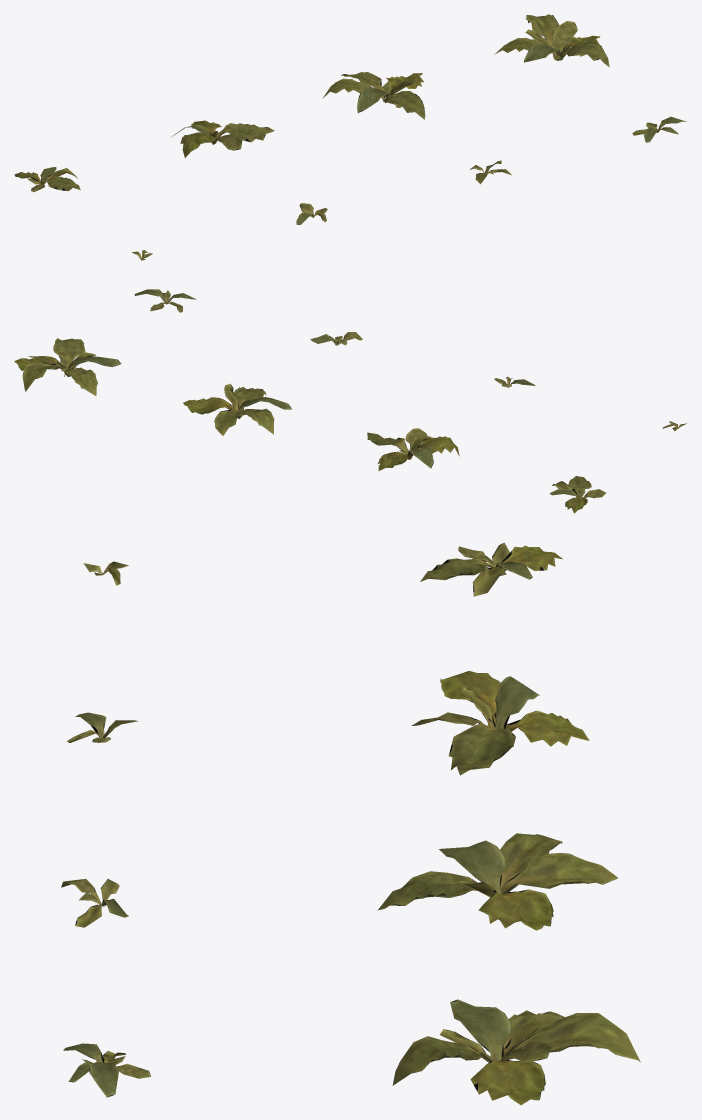
The model's file is crystalline_iceplant.glb.
3 views of the same model, one above another, from view 1: azimuth 30°, elevation 25°; view 2: azimuth 150°, elevation 25°; view 3: azimuth 270°, elevation 25° (orthographic). The views are drawn at different scales.
Parts seen in each view (by area): view 1: crystalline_iceplant_a_LOD0; view 2: crystalline_iceplant_a_LOD0; view 3: crystalline_iceplant_a_LOD0.
Part boxes in pixels (x1,y1,x2,y2): crystalline_iceplant_a_LOD0: (14, 14, 686, 260); crystalline_iceplant_a_LOD0: (14, 289, 686, 513); crystalline_iceplant_a_LOD0: (61, 542, 640, 1105).
Size of the model in its own units: 1.69 by 0.0822 by 0.7368.
1 material, 1 textured.
